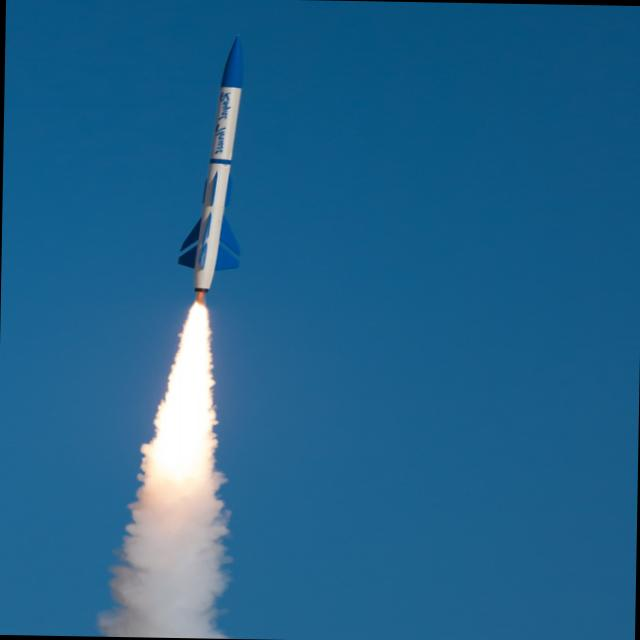rocket: (172, 28, 256, 404)
